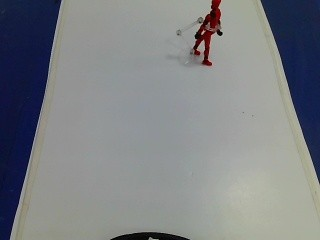pedestrian: (190, 0, 229, 72)
